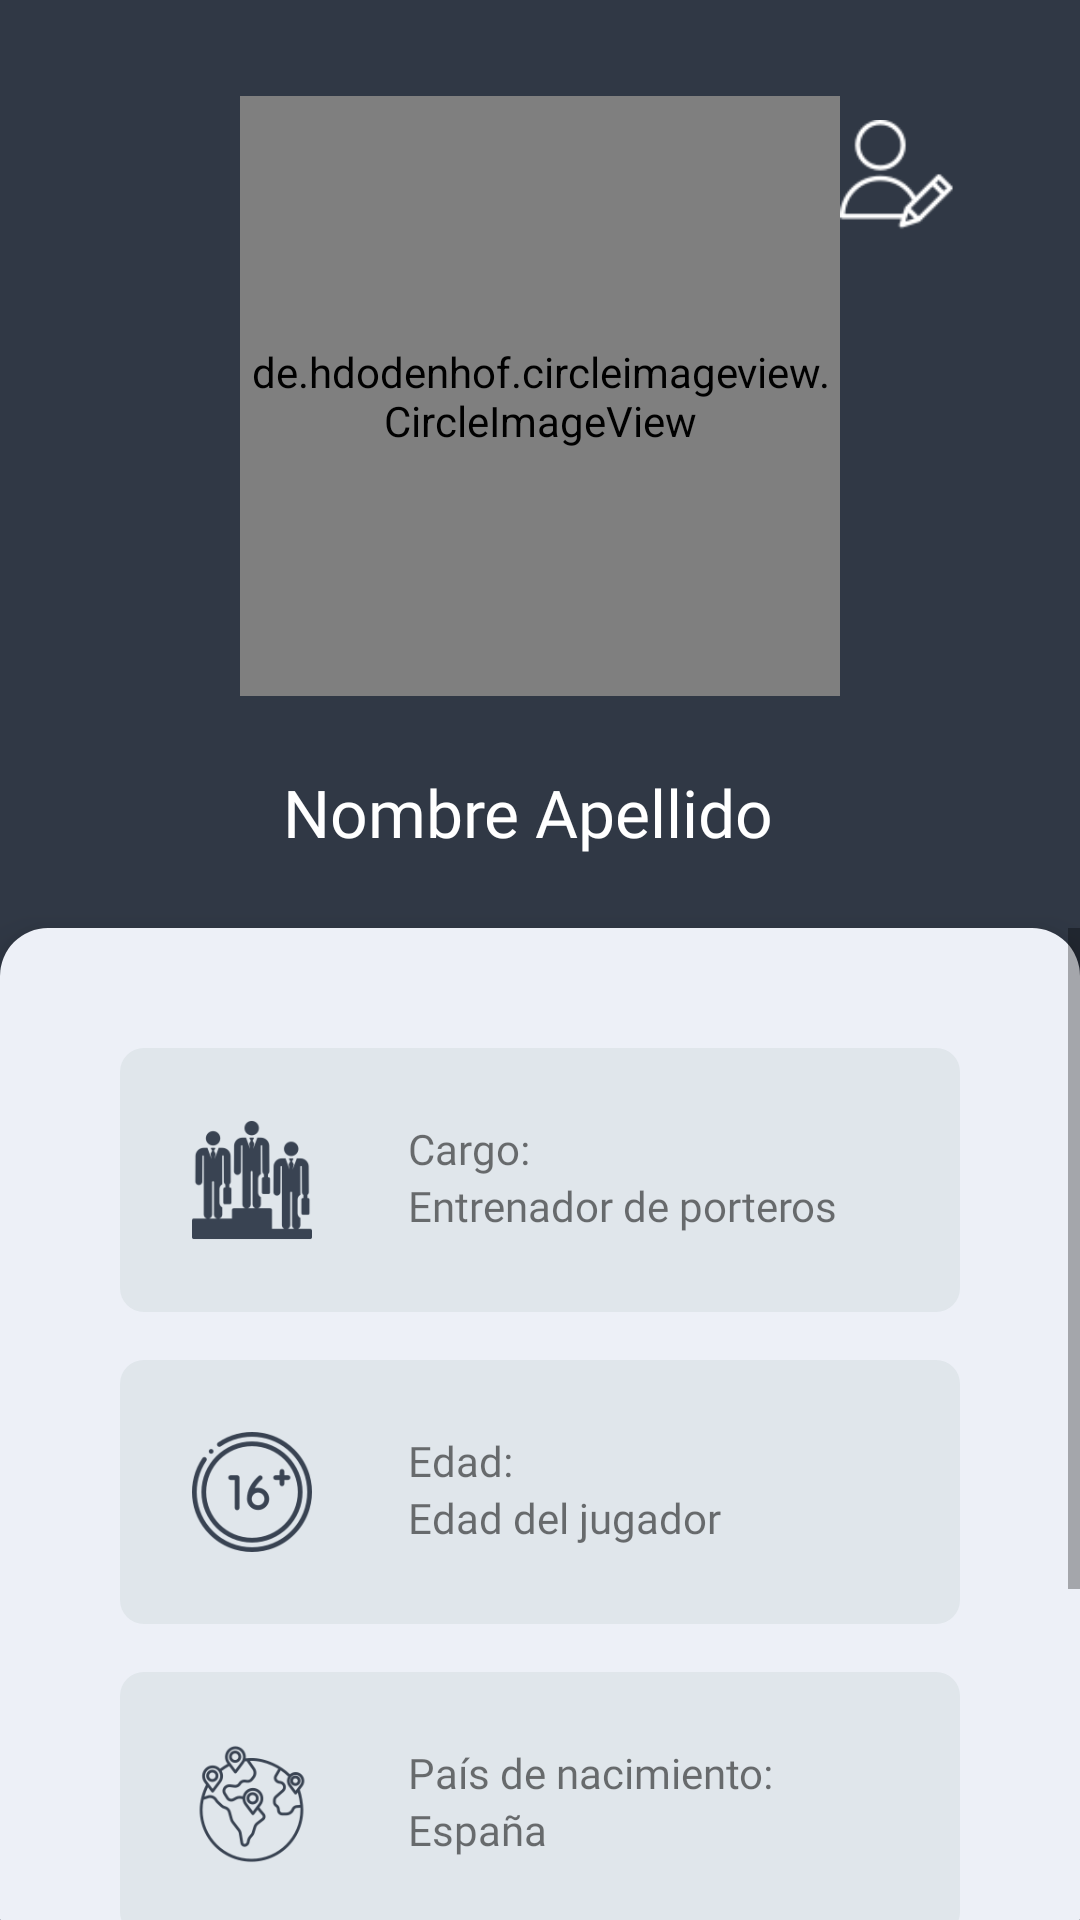

Icon bounding boxes for this 1080*1920 phone screenshot, format (x1, y1, x2, y2):
add pais: (199, 1746, 305, 1862)
add puesto: (192, 1121, 312, 1239)
editprofile: (840, 120, 953, 229)
